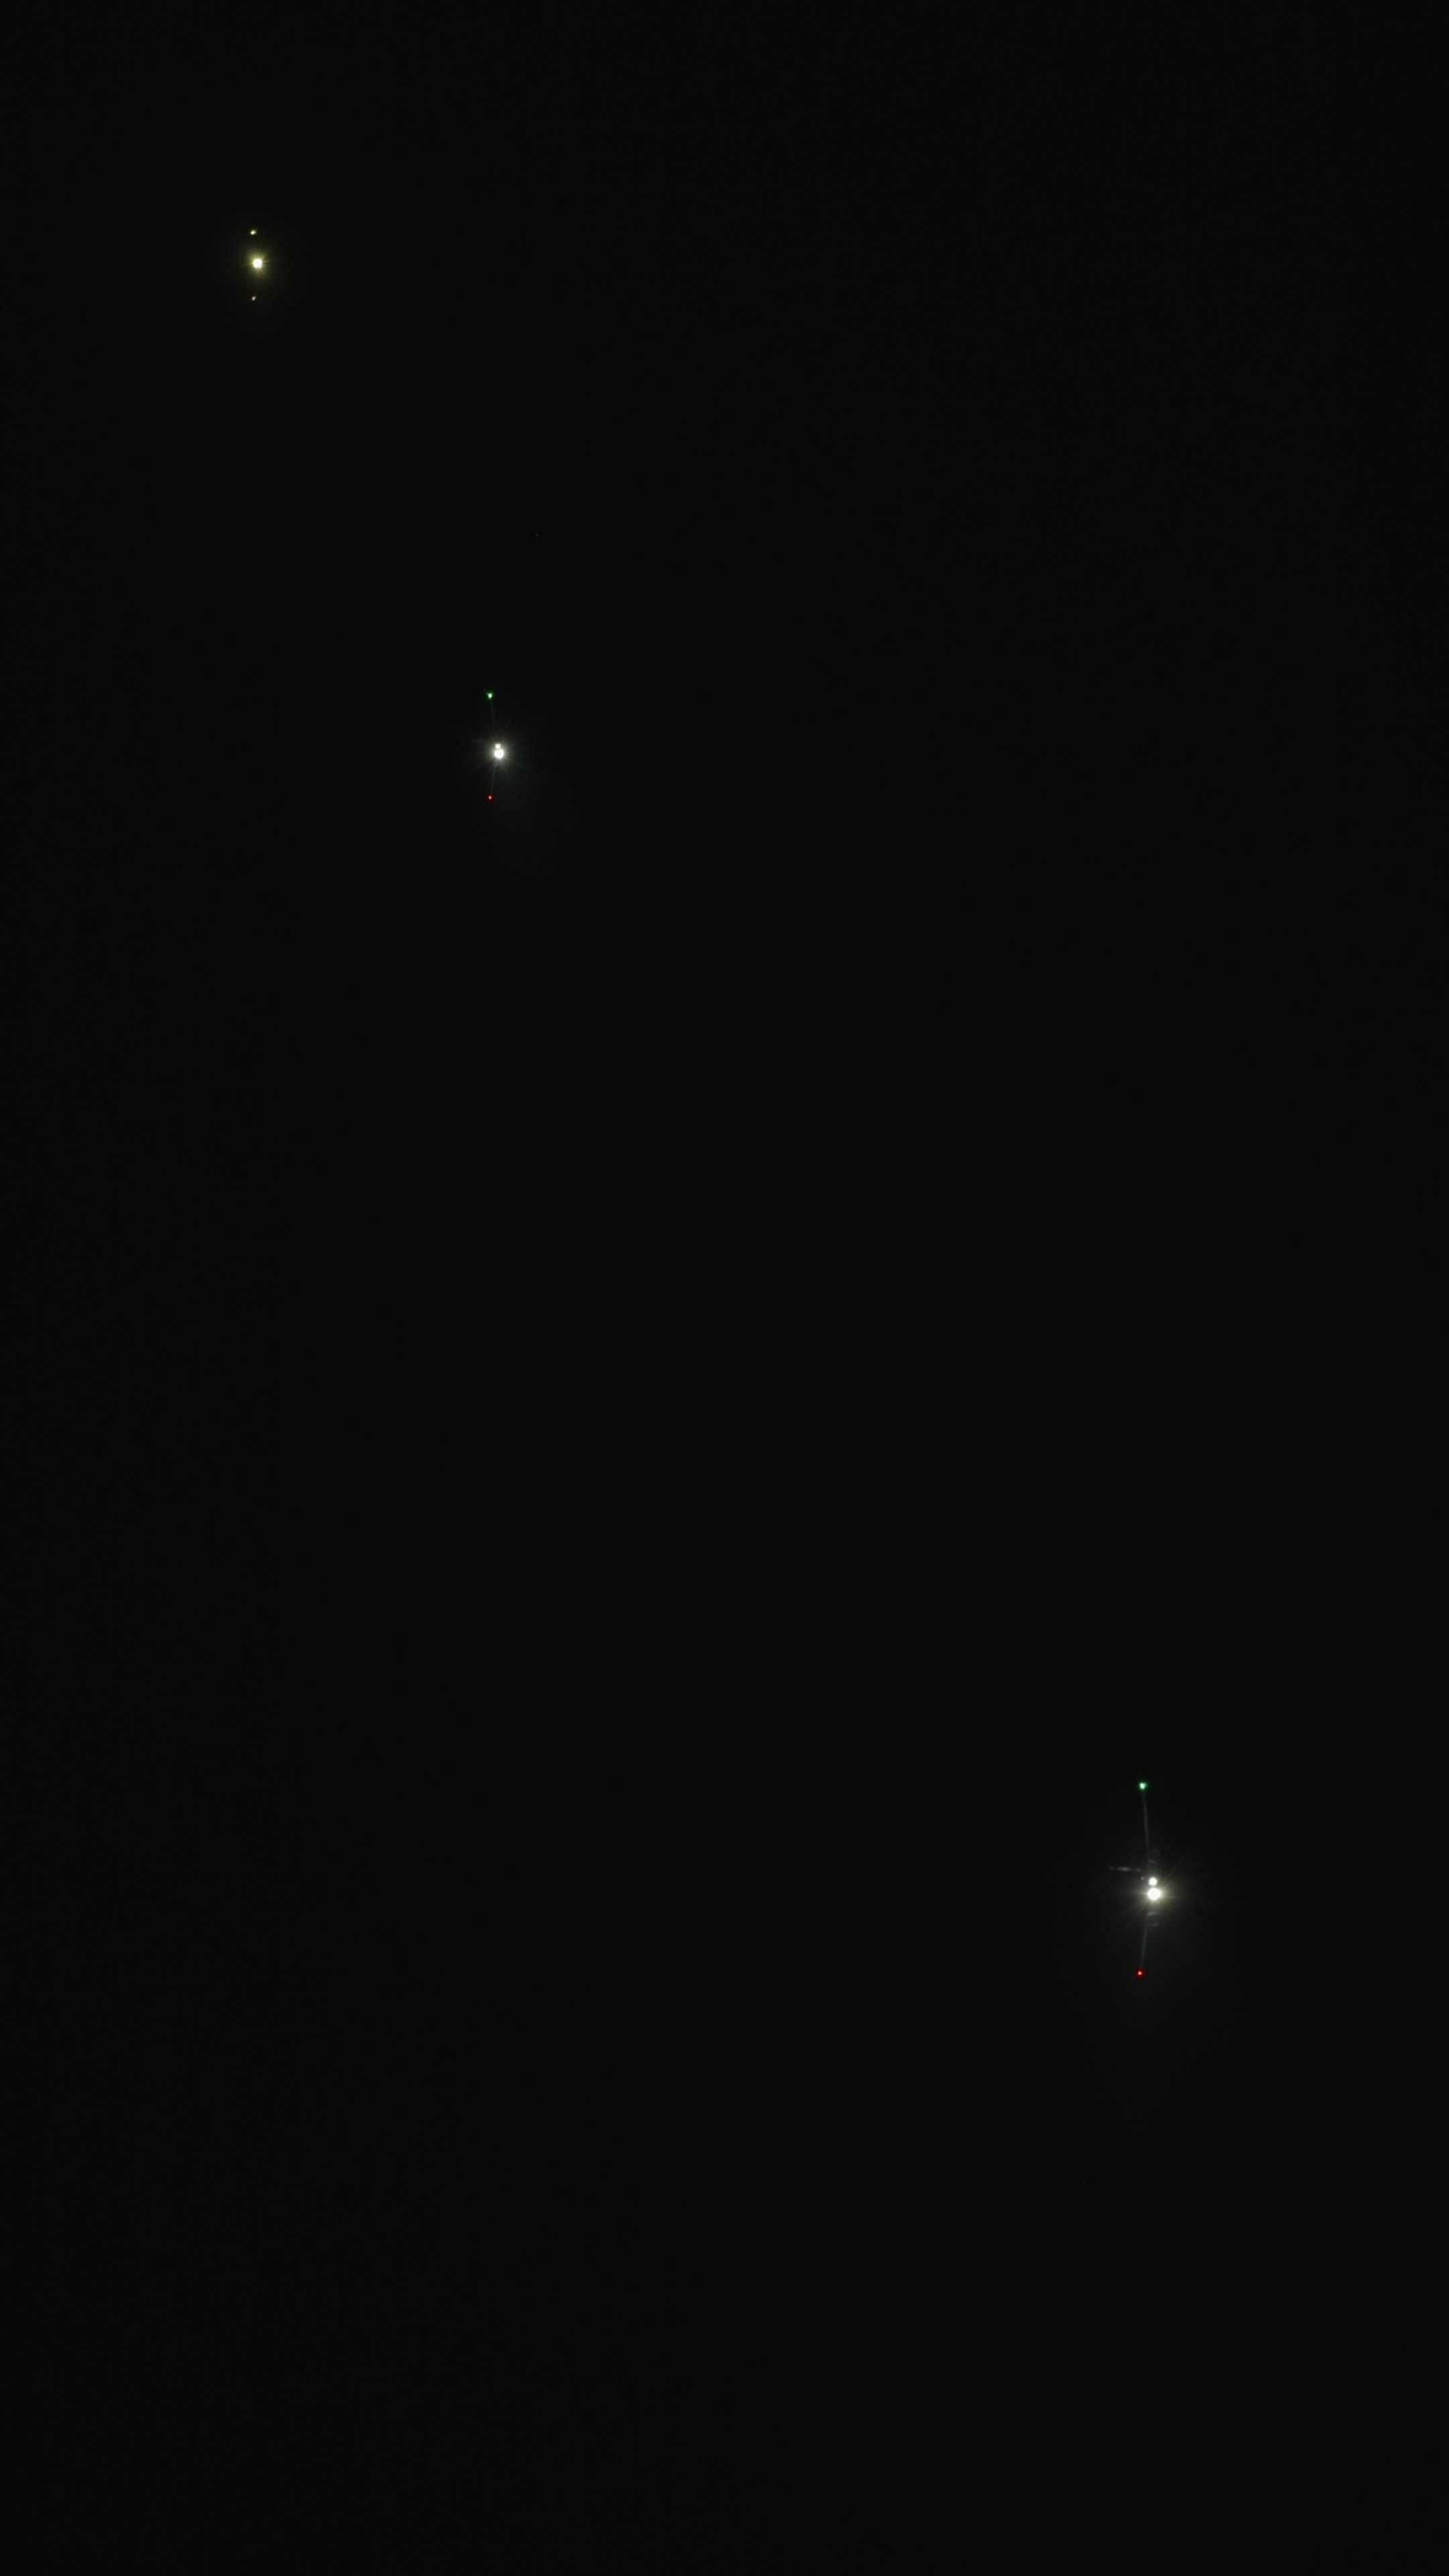Plane: (1053, 1679, 1253, 2065), (437, 667, 556, 833), (216, 189, 294, 338)
